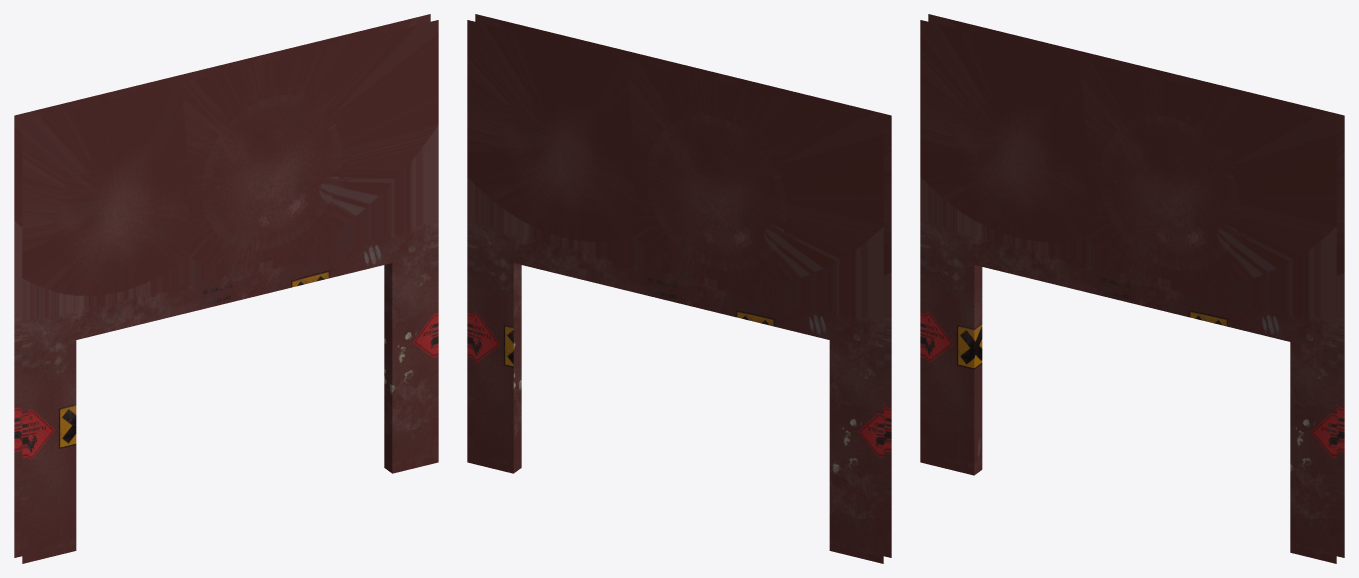
The model's file is CS_wall_large_gate.FBX.
The picture shows the model from 3 angles, left to right: view 1: azimuth 30°, elevation 25°; view 2: azimuth 150°, elevation 25°; view 3: azimuth 330°, elevation 25°; orthographic projection.
Parts seen in each view (by area): view 1: SM_wall_large_gate; view 2: SM_wall_large_gate; view 3: SM_wall_large_gate.
Boxes of the visible parts, left/top/right/bottom form: SM_wall_large_gate: left=14, top=14, right=438, bottom=563; SM_wall_large_gate: left=467, top=14, right=891, bottom=563; SM_wall_large_gate: left=920, top=14, right=1344, bottom=563.
Size of the model in its own units: 600 by 20 by 610.
